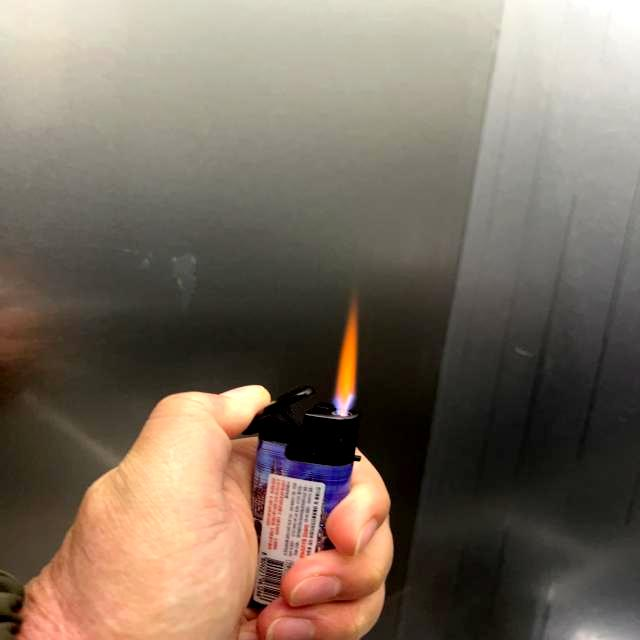fire: (331, 296, 362, 412)
